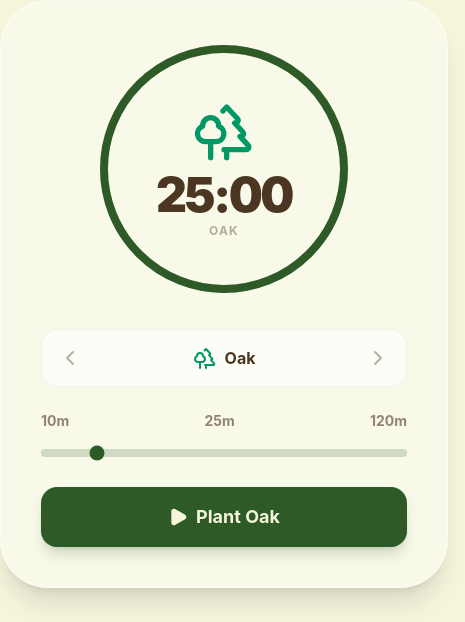
Test case: Timer Component › updates duration when slider is moved
Set the slider to "45". click: (160, 453)
box: [41,449,407,457]
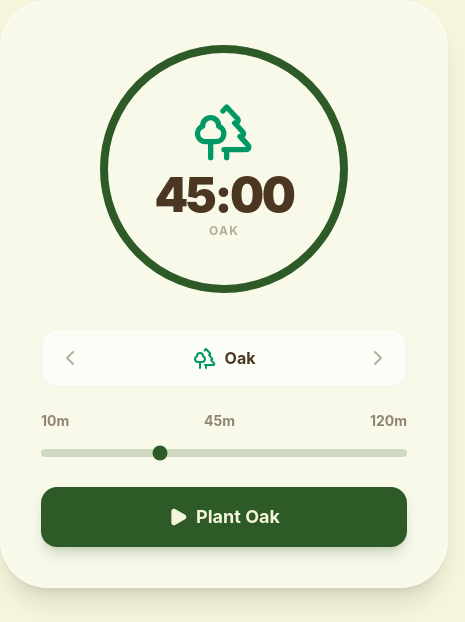
expect the text "45:00" is shown: met, box [154,171,293,219]
